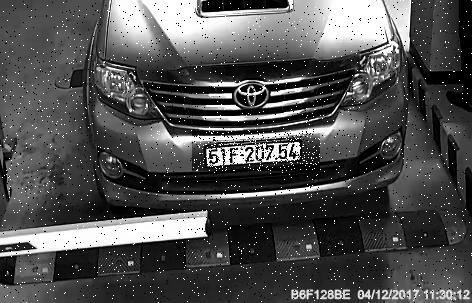License-plate: (193, 132, 321, 172)
